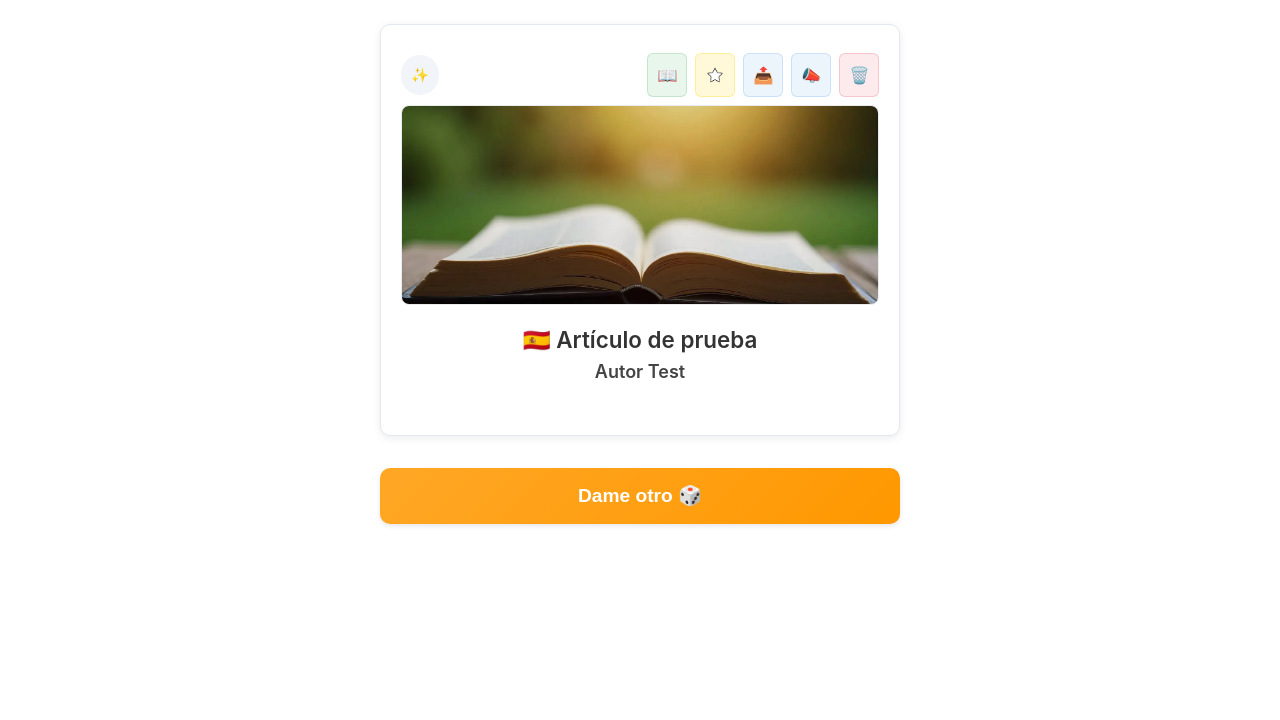
Test: RandomArticle - Funcionalidad de favoritos › muestra el modal de favorito al marcar como favorito
Expected: the heading "🇪🇸 Artículo de prueba" is shown, [523,326,757,353]
Click the button titled "Añadir a favoritos" at [715, 75], box [695,53,735,97]
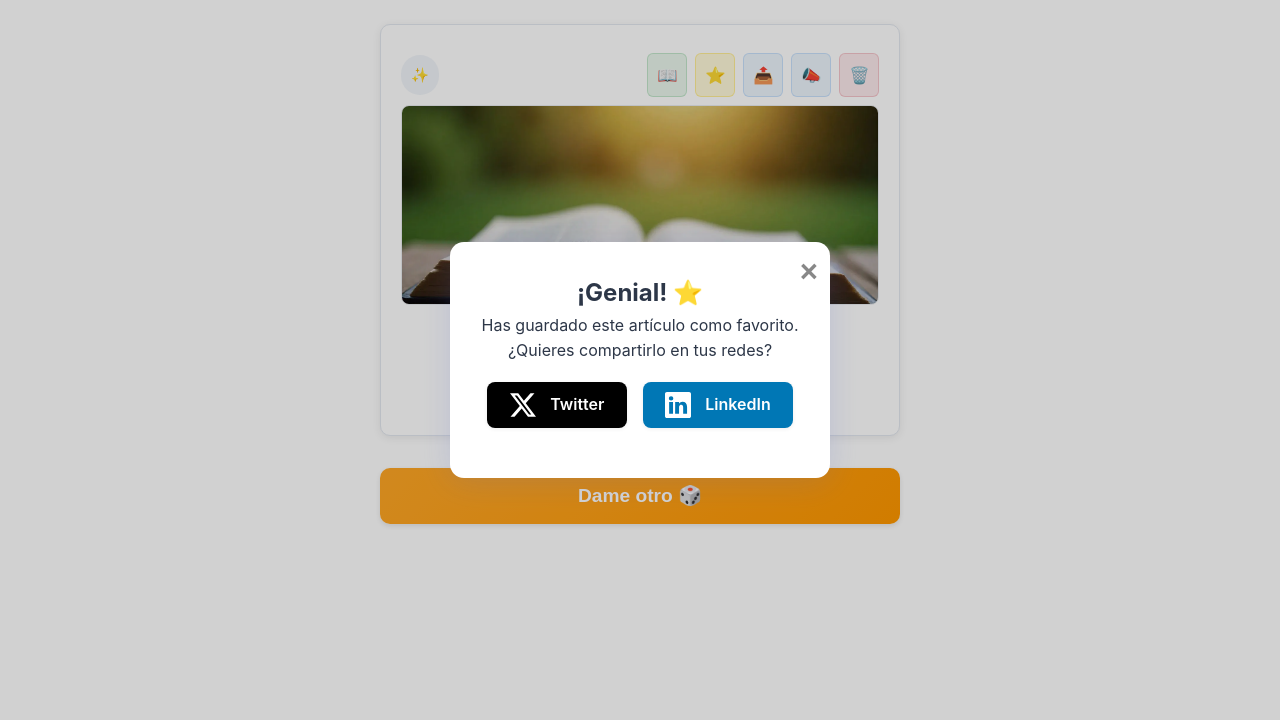
Expected: the heading "¡Genial! ⭐" is shown, [577,278,703,307]
Expected: the text "Has guardado este artículo como favorito" is shown, [482,315,798,335]
